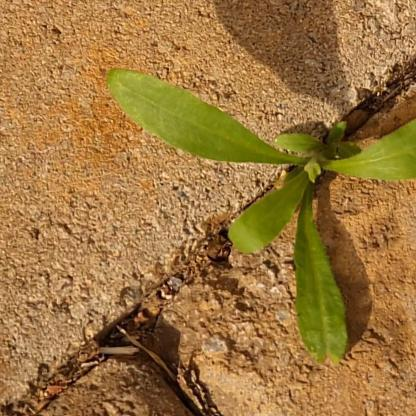Weeds: (106, 66, 415, 369)
